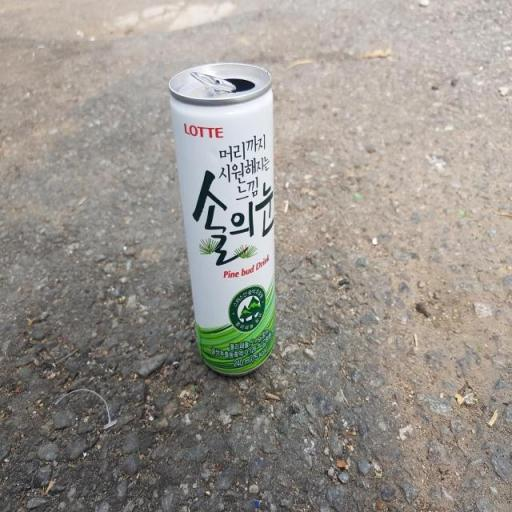metal: (140, 42, 290, 402)
